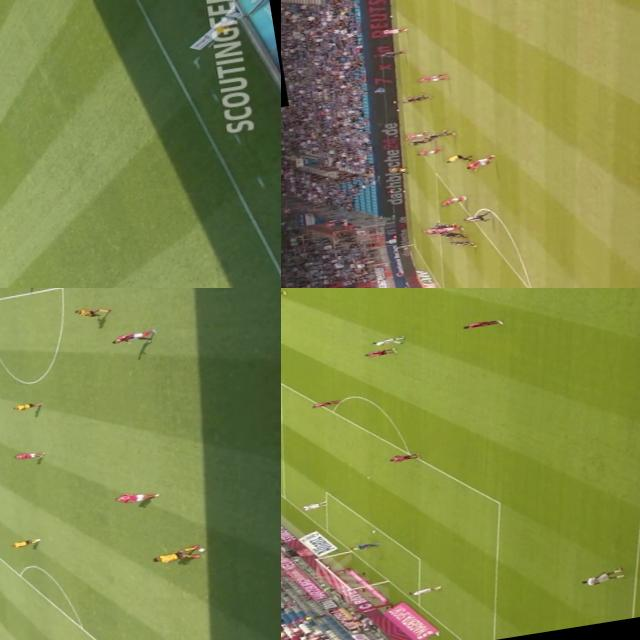ball: (195, 546, 208, 553), (363, 529, 378, 535), (462, 196, 468, 200)
player: (146, 542, 204, 569), (109, 488, 160, 506), (577, 569, 621, 589), (109, 329, 156, 344), (461, 154, 498, 172), (460, 316, 499, 332), (406, 583, 447, 597), (309, 396, 342, 413), (73, 306, 108, 322), (385, 451, 426, 464), (7, 536, 40, 552), (362, 346, 397, 359), (438, 195, 468, 210), (462, 212, 494, 226), (7, 402, 44, 414), (416, 72, 450, 85), (8, 450, 44, 462), (346, 541, 379, 554), (368, 336, 402, 348), (423, 129, 456, 141), (422, 224, 452, 236), (375, 26, 410, 36), (373, 50, 404, 61), (400, 131, 430, 142), (450, 238, 475, 251), (403, 93, 430, 105), (440, 230, 466, 242), (300, 499, 326, 511), (413, 148, 442, 158), (405, 138, 430, 148), (432, 222, 456, 231), (432, 226, 458, 233)
